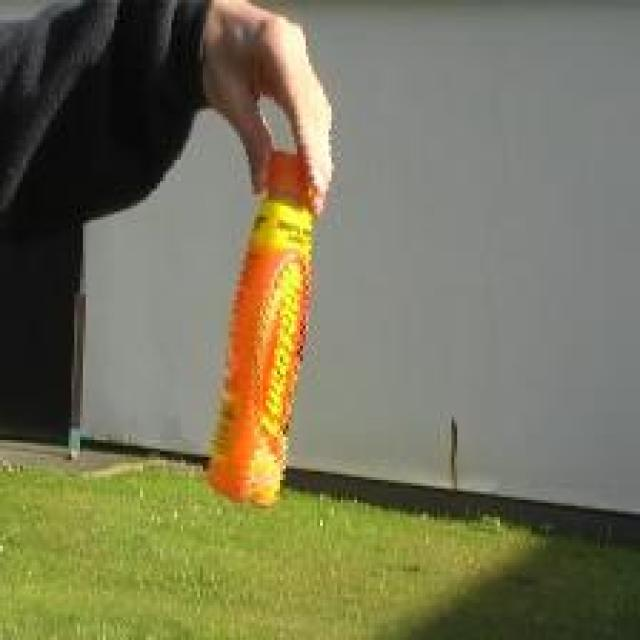other: (202, 130, 310, 517)
